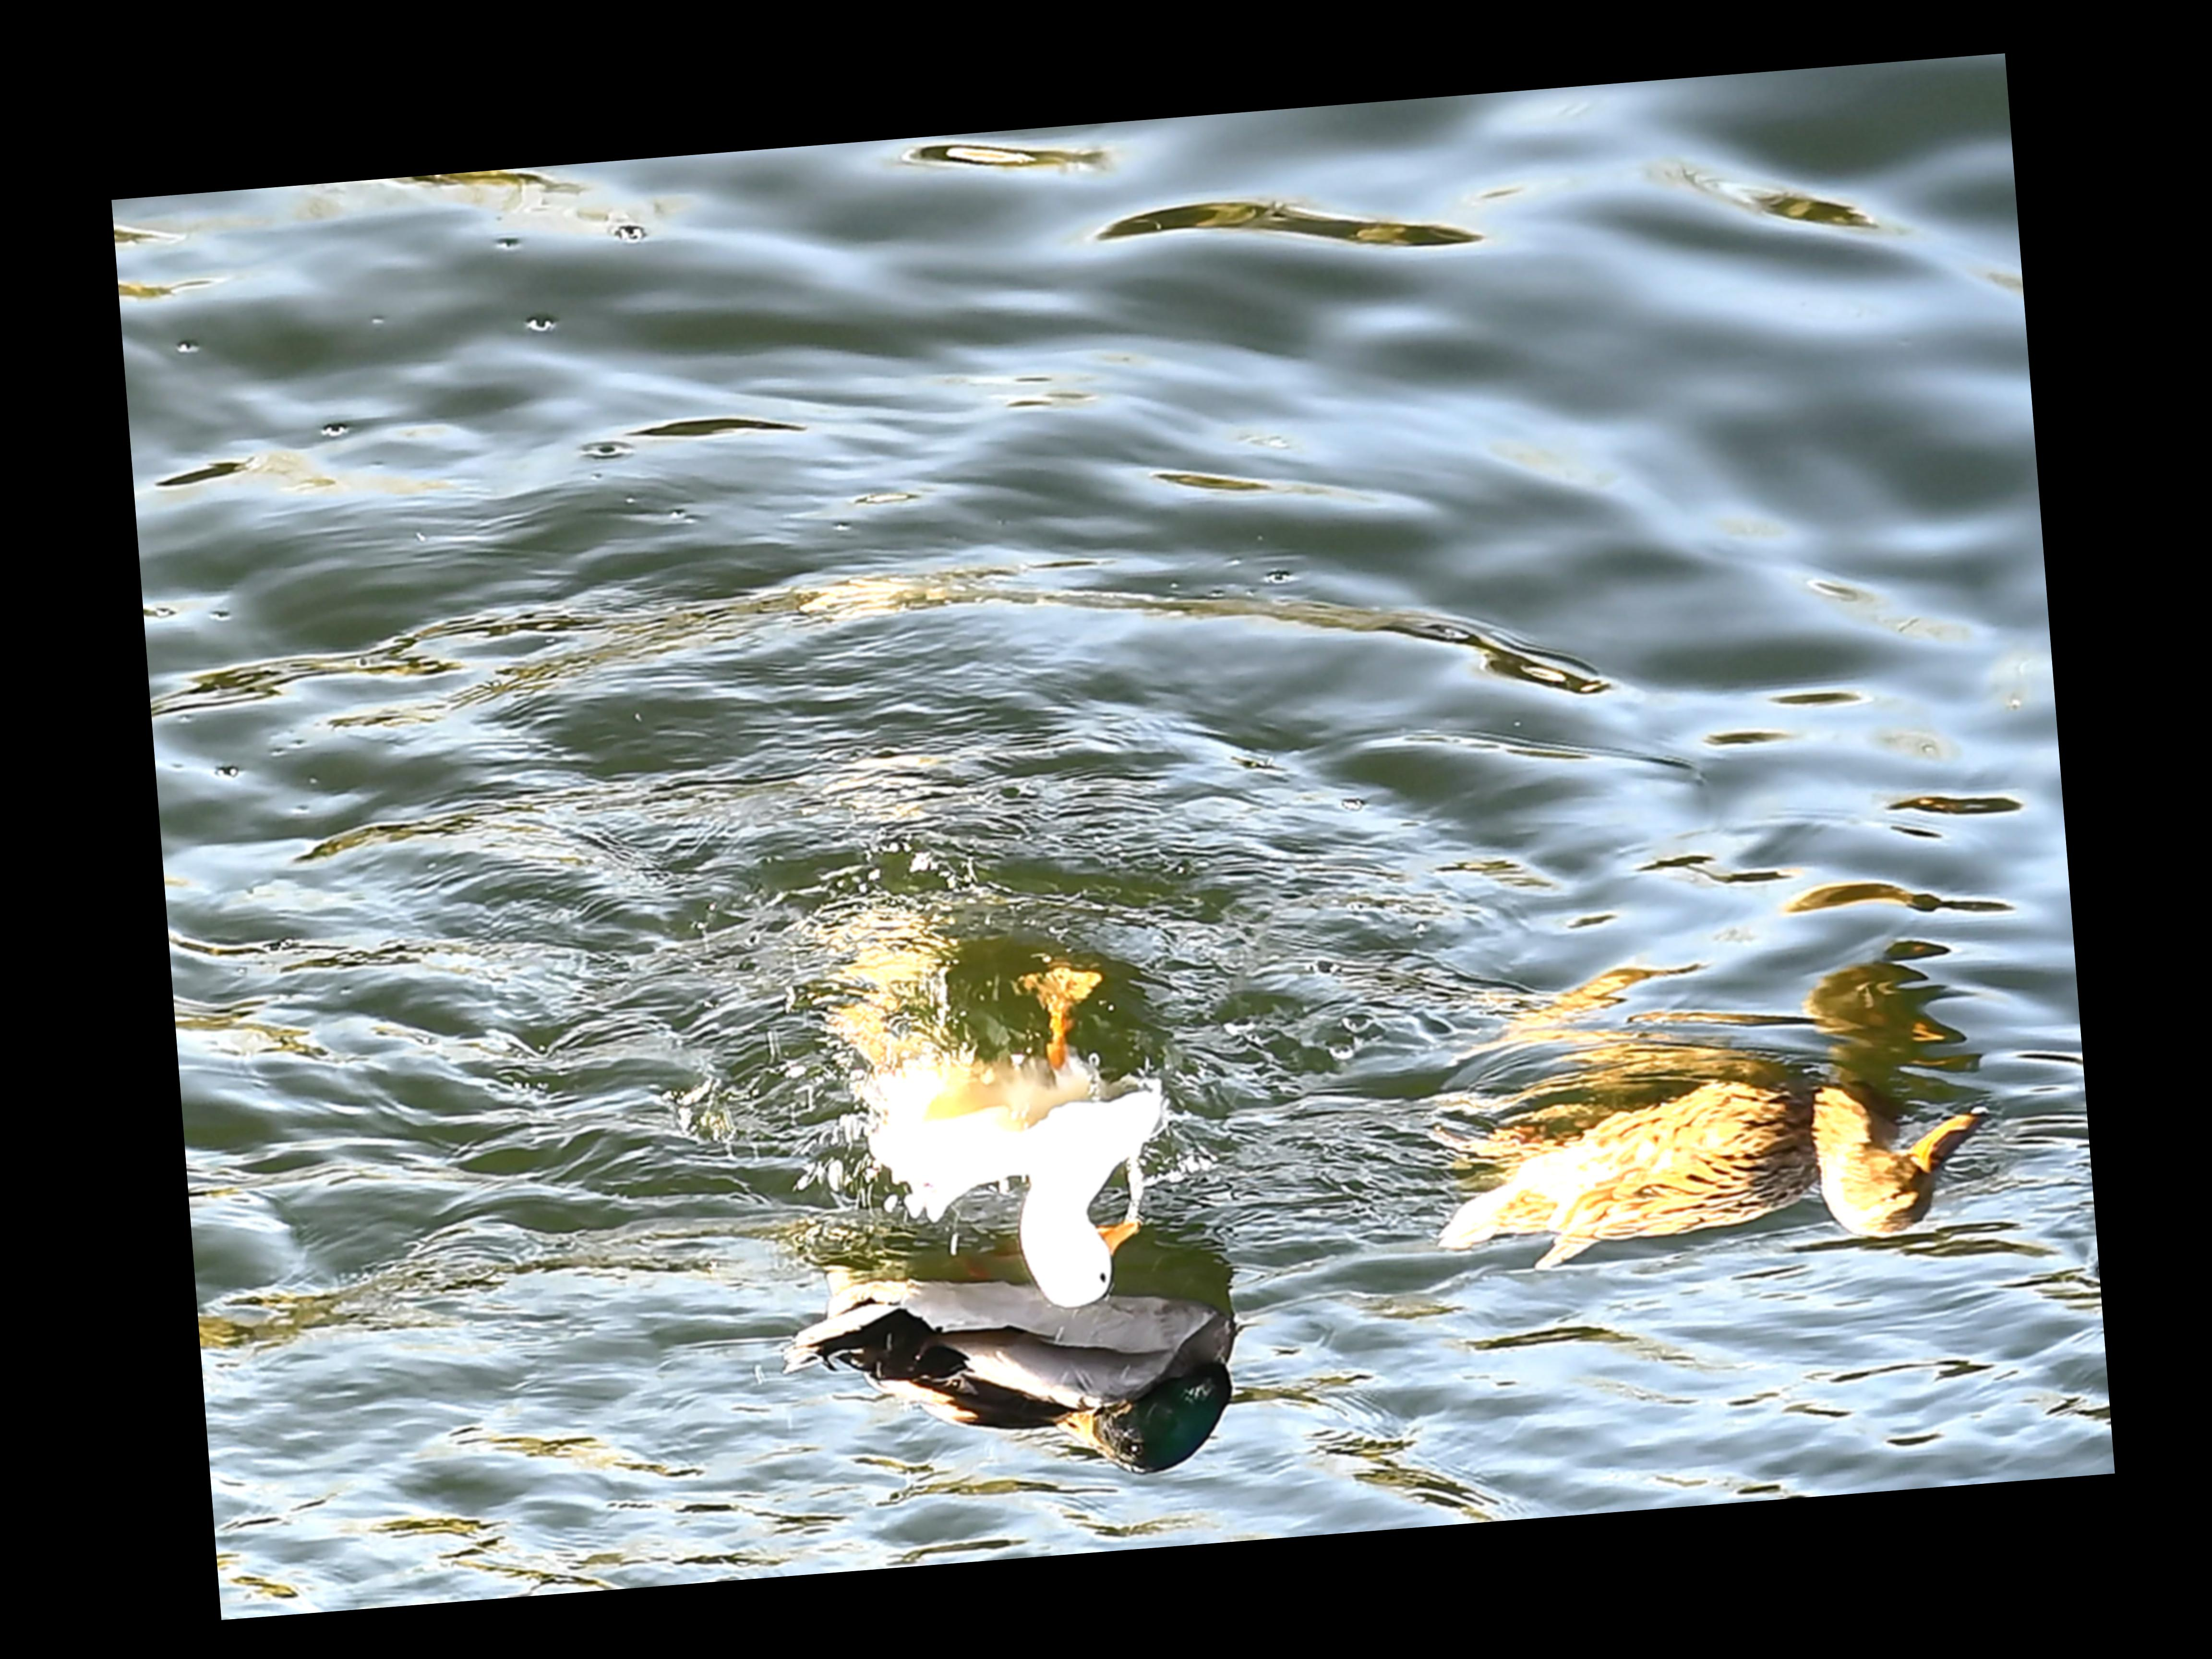duck: (1406, 1006, 2027, 1323), (794, 934, 1188, 1331), (780, 1243, 1263, 1504)
